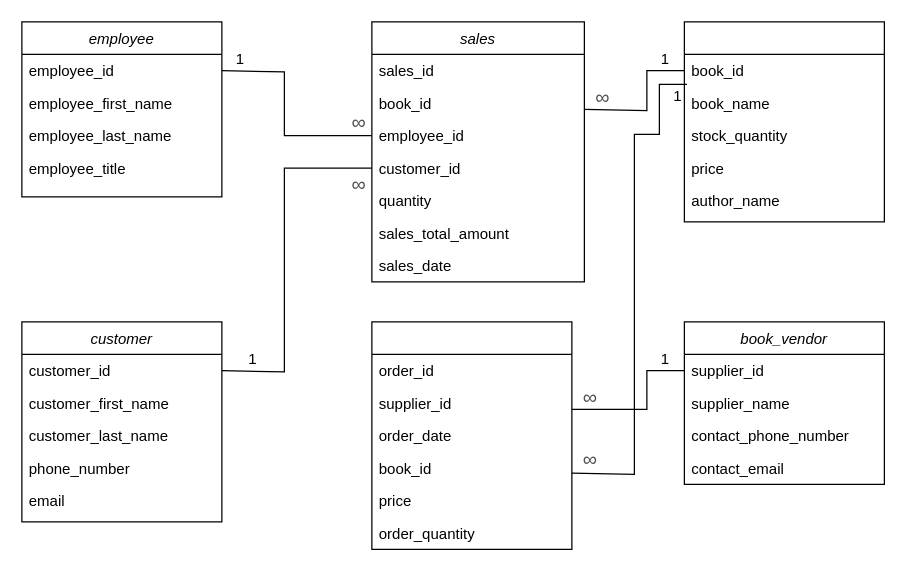
This 906x575 diagram has some shape labels left out. The box of each missing label's shape, as (x1, y1, x2, y2) in pixels:
book_entities: (683, 21, 884, 222)
book_inventory_order: (371, 321, 572, 549)
